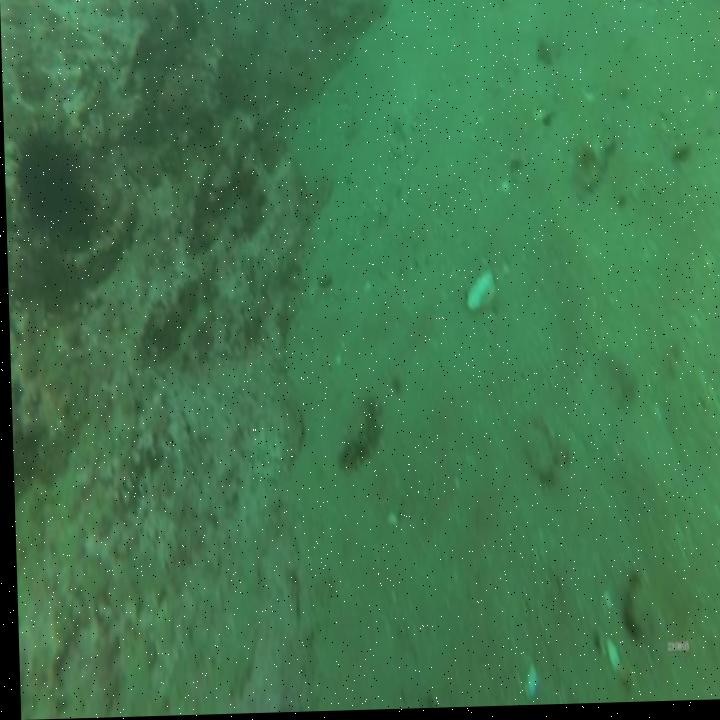echinus: (15, 122, 92, 245)
holothurian: (332, 393, 380, 476)
